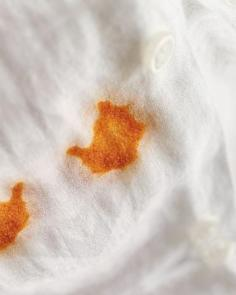stain: (64, 99, 149, 177), (0, 177, 32, 257)
